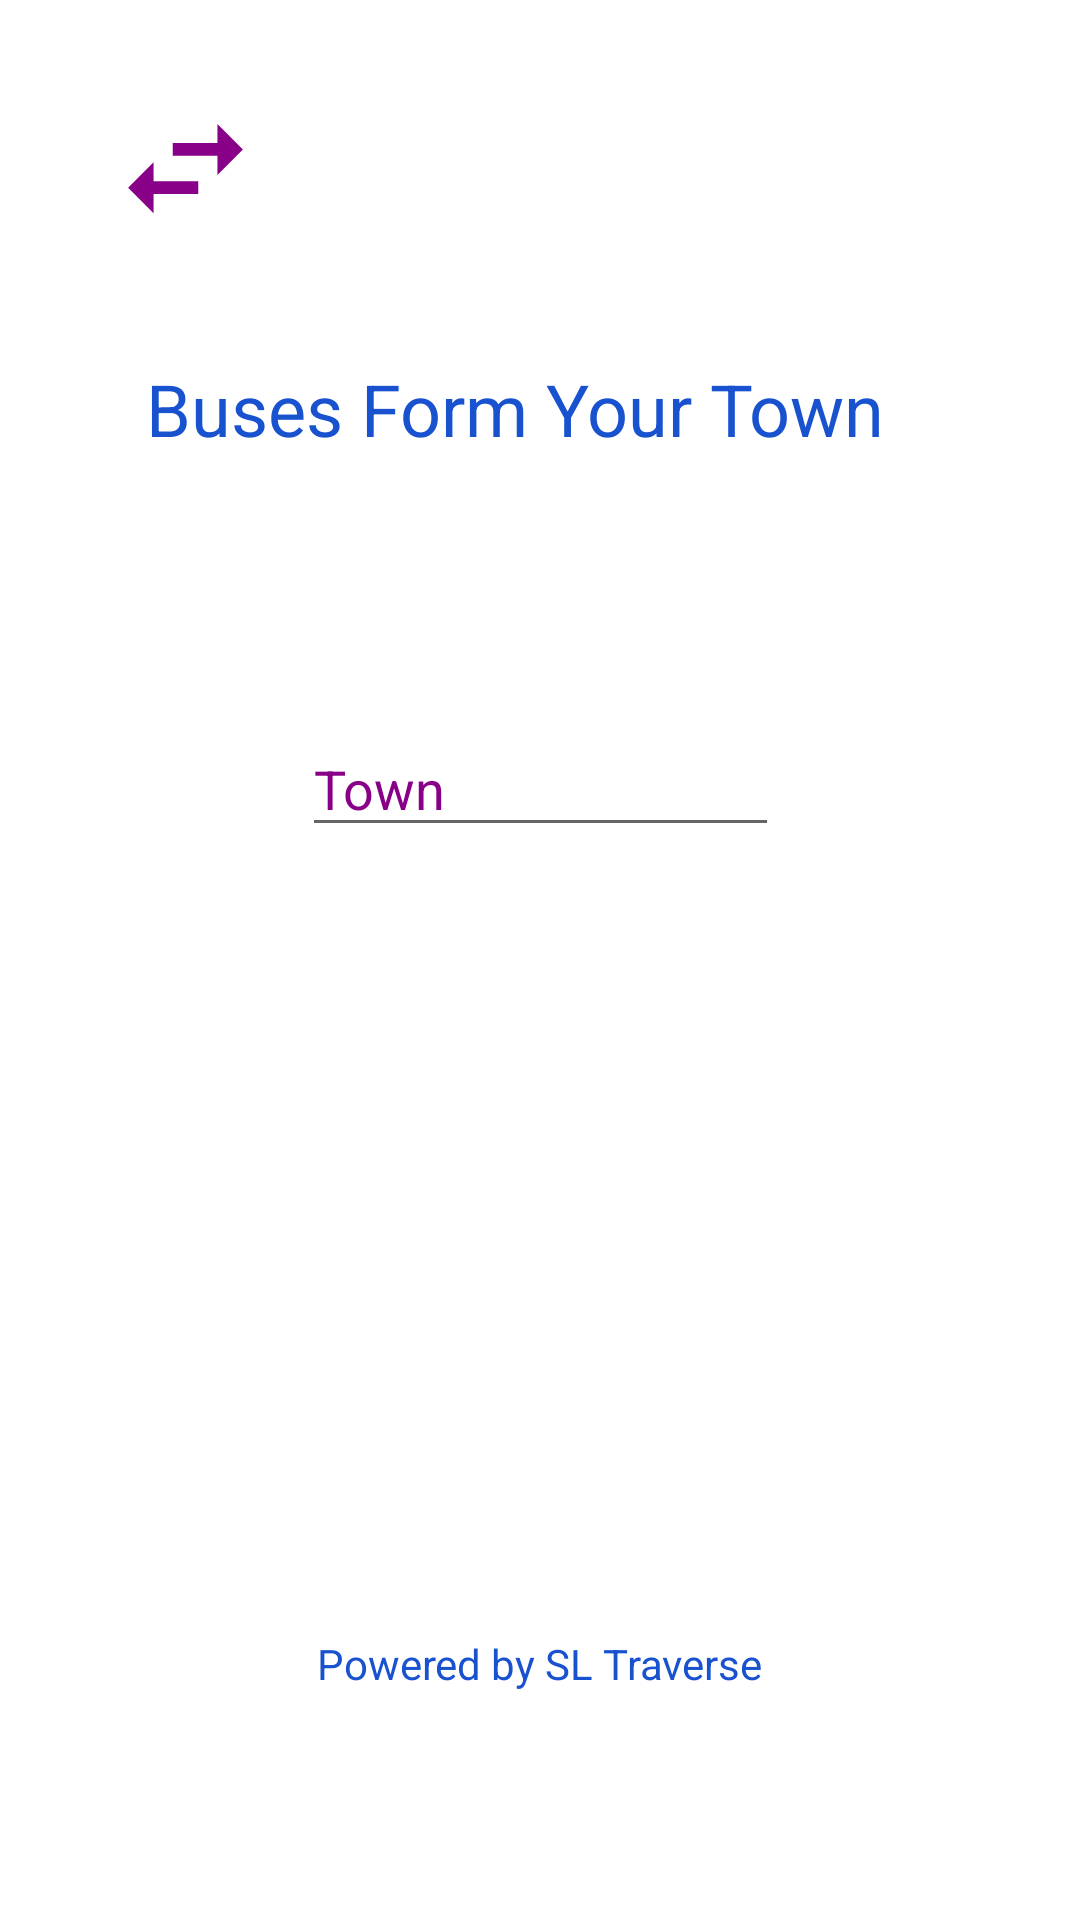

Locate icon controls on the screen. Image size 1080*1920, boxes as (x1, y1, x2, y2).
swap horiz: (128, 124, 243, 213)
